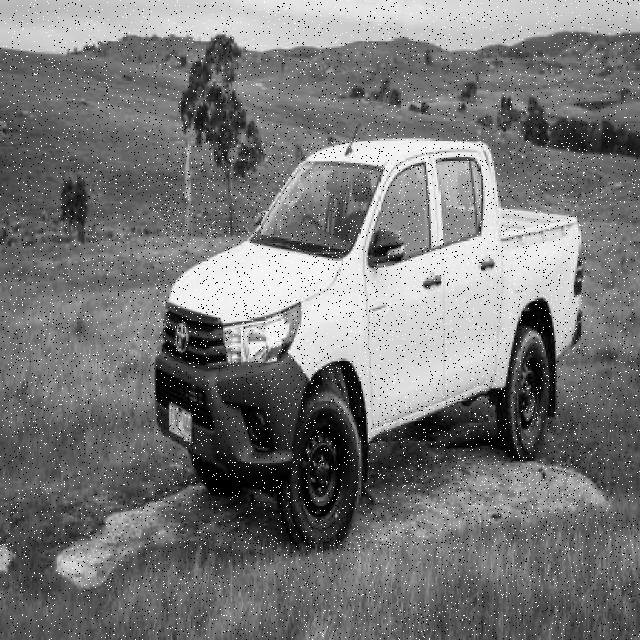Pickup: (153, 138, 586, 552)
